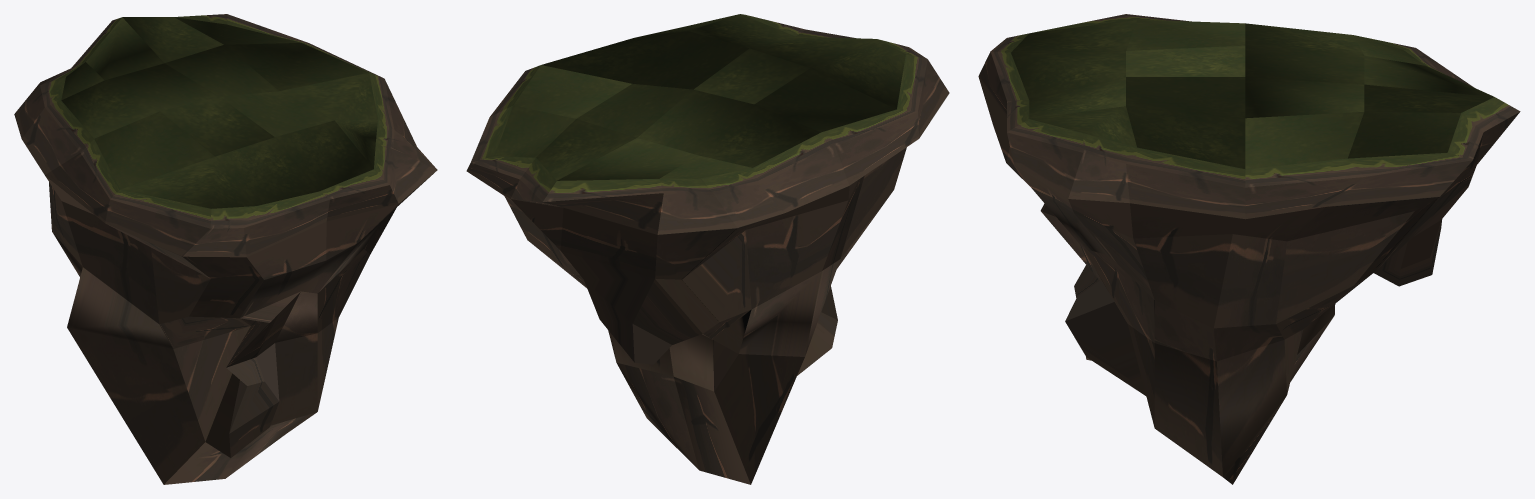
The model's file is eiland_versie_1.FBX.
3 renders of one model, left to right at view 1: azimuth 30°, elevation 25°; view 2: azimuth 150°, elevation 25°; view 3: azimuth 270°, elevation 25°, orthographic. The views are drawn at different scales.
Visible parts, largest first — view 1: land_004; view 2: land_004; view 3: land_004.
Part boxes in pixels (x1=…): land_004: x1=14, y1=14, x2=437, y2=484; land_004: x1=466, y1=14, x2=949, y2=484; land_004: x1=978, y1=14, x2=1520, y2=484.
Bounding box in the file's own units: 131 × 139 × 167.
